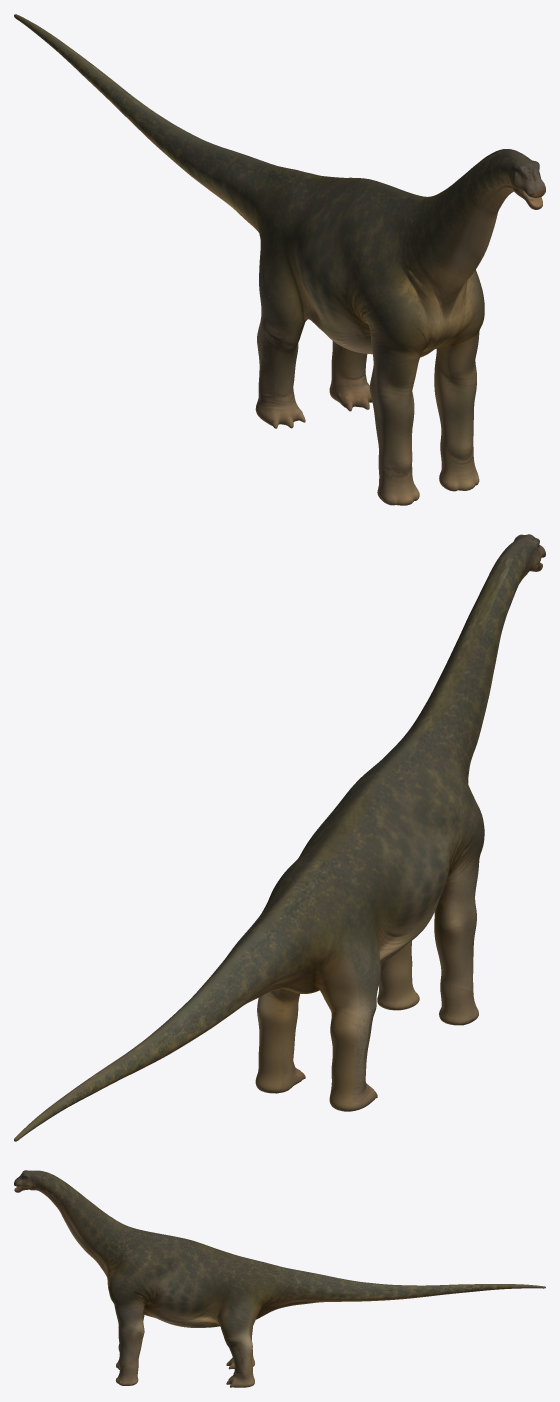
Rendered from brachiosaurus.glb.
3 renders of one model, top to bottom at view 1: azimuth 30°, elevation 25°; view 2: azimuth 150°, elevation 25°; view 3: azimuth 270°, elevation 25°, orthographic. The views are drawn at different scales.
Parts seen in each view (by area): view 1: material; view 2: material; view 3: material.
Part boxes in pixels (x1,y1,x2,y2): material: [14, 14, 545, 505]; material: [14, 534, 545, 1141]; material: [14, 1170, 545, 1387].
Bounding box in the file's own units: 2.8 × 9.32 × 22.
1 material, 1 textured.
